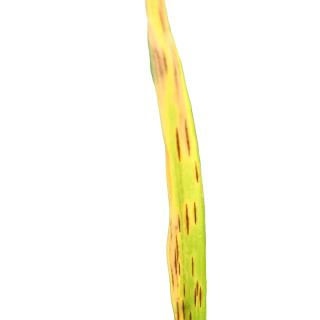Bercak-Cokelat-Sempit: (166, 242, 220, 320), (172, 113, 210, 183), (173, 201, 203, 236), (152, 41, 175, 84), (153, 10, 173, 38)
